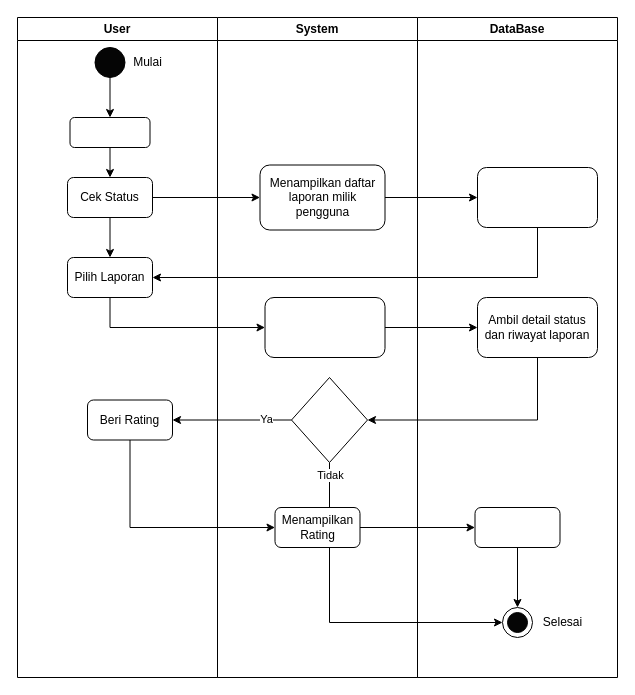
The diagram is 635 pixels wide and 695 high, and some of its shapes have lost their labels. Here are the shapes that lost their labels. From the top down, the centre of each, then its label:
point 109,132: Login
point 537,197: Ambil Laporan berdasarkan Id user
point 324,327: Menampilkan detail laporan & riwayat status
point 329,419: Laporan Selesai ?
point 517,527: Simpan Rating
